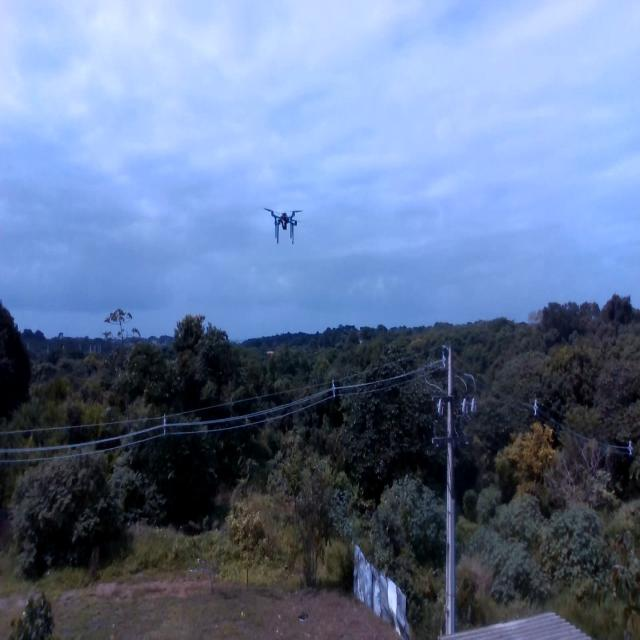-uav-: (258, 190, 306, 253)
